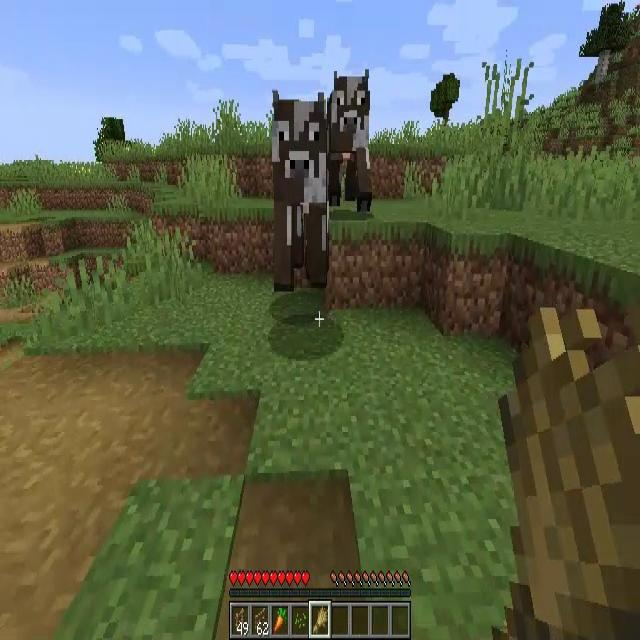cow: (271, 98, 331, 293), (328, 72, 370, 212)
